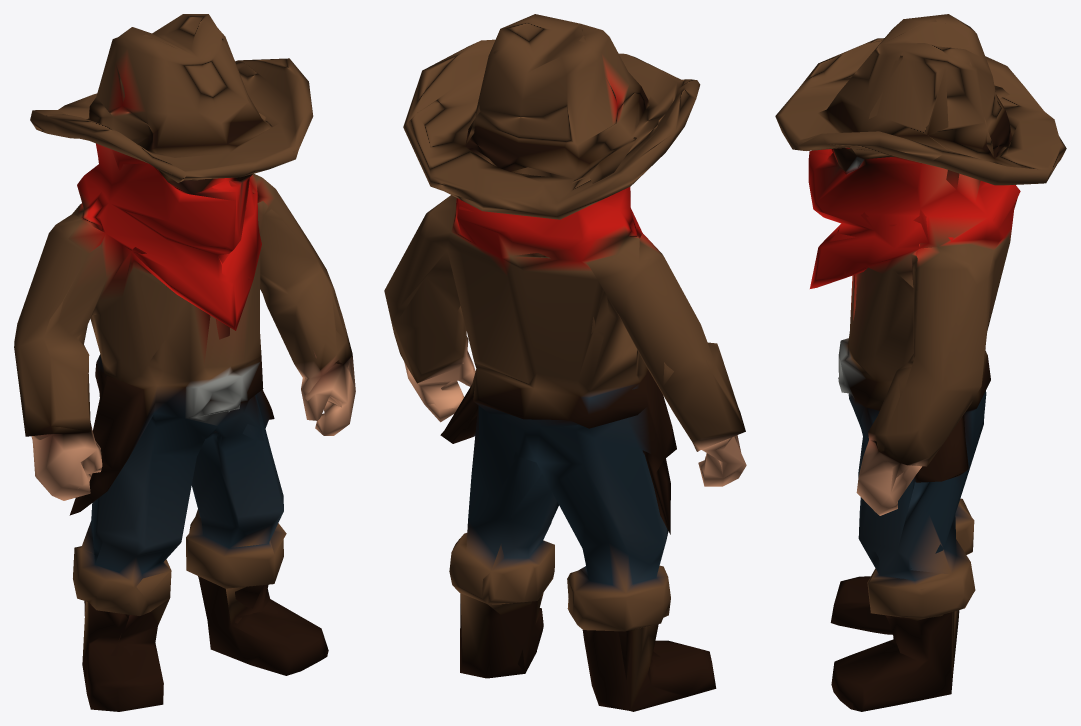
The model's file is gen3d-bandit-lod0.glb.
The picture shows the model from 3 angles, left to right: view 1: azimuth 30°, elevation 25°; view 2: azimuth 150°, elevation 25°; view 3: azimuth 270°, elevation 25°; orthographic projection. The views are drawn at different scales.
Visible parts, largest first — view 1: part_0; view 2: part_0; view 3: part_0.
Part boxes in pixels (box(x1,y1,x2,y2)): part_0: box(14, 14, 355, 711); part_0: box(384, 14, 746, 711); part_0: box(775, 14, 1066, 711).
Size of the model in its own units: 0.5467 by 0.9998 by 0.4226.
